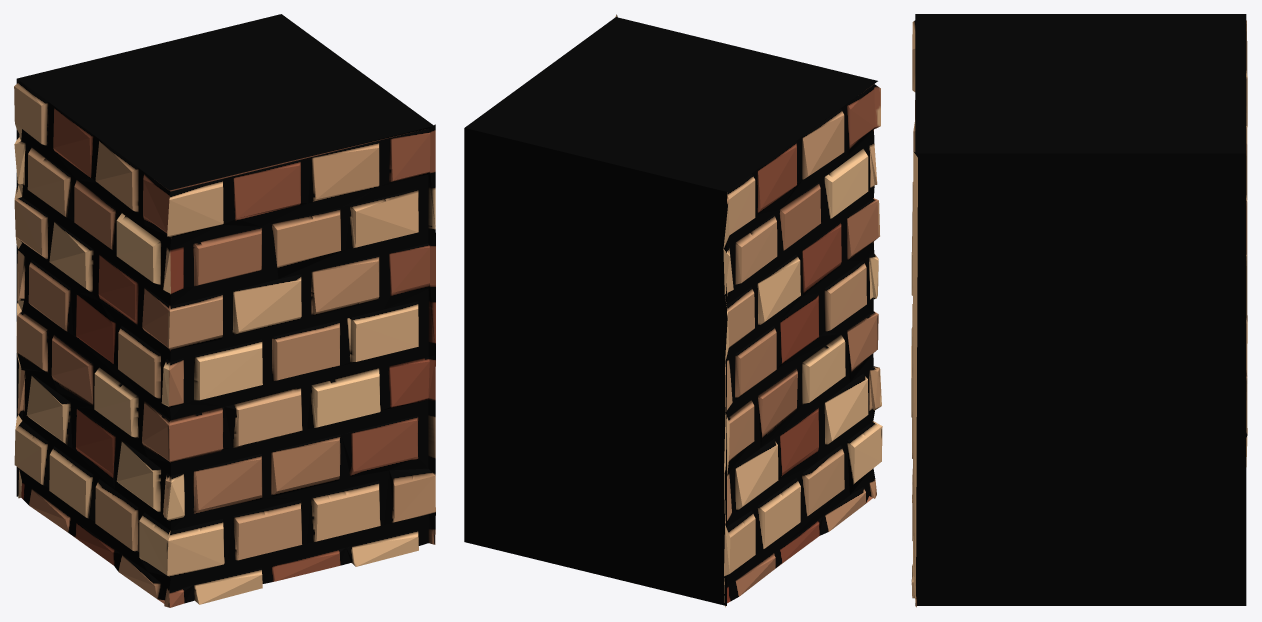
The model's file is BrickWall2SideCorner.glb.
3 renders of one model, left to right at view 1: azimuth 30°, elevation 25°; view 2: azimuth 150°, elevation 25°; view 3: azimuth 270°, elevation 25°, orthographic. The views are drawn at different scales.
Parts seen in each view (by area): view 1: 2SideBrickWallCorner; view 2: 2SideBrickWallCorner; view 3: 2SideBrickWallCorner.
Part boxes in pixels (left/top/right/bottom): 2SideBrickWallCorner: left=14, top=14, right=435, bottom=607; 2SideBrickWallCorner: left=464, top=14, right=882, bottom=607; 2SideBrickWallCorner: left=911, top=14, right=1247, bottom=607.
Bounding box in the file's own units: 2.05 × 3.07 × 2.05.
1 material, 1 textured.
